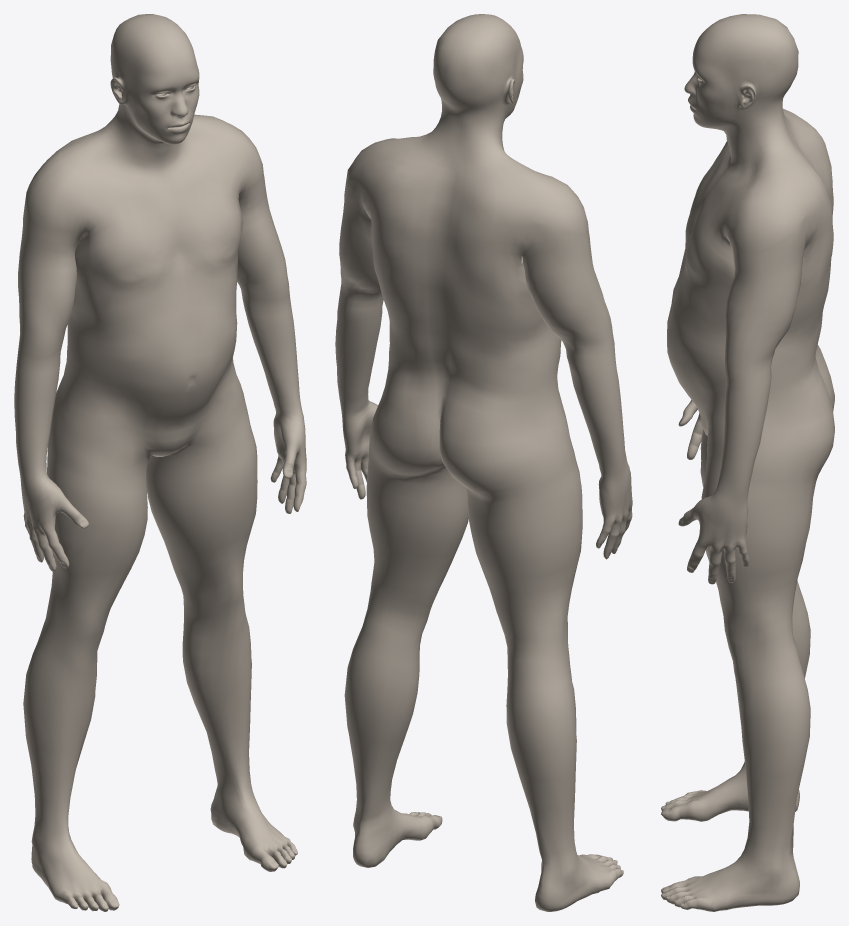
Rendered from sitka_body_stand.glb.
The picture shows the model from 3 angles, left to right: view 1: azimuth 30°, elevation 25°; view 2: azimuth 150°, elevation 25°; view 3: azimuth 270°, elevation 25°; orthographic projection.
Parts seen in each view (by area): view 1: body_stand; view 2: body_stand; view 3: body_stand.
Part boxes in pixels (x1,y1,x2,y2): body_stand: (14, 14, 306, 911); body_stand: (335, 14, 632, 911); body_stand: (661, 14, 834, 911).
Bounding box in the file's own units: 0.6493 × 1.88 × 0.352.
